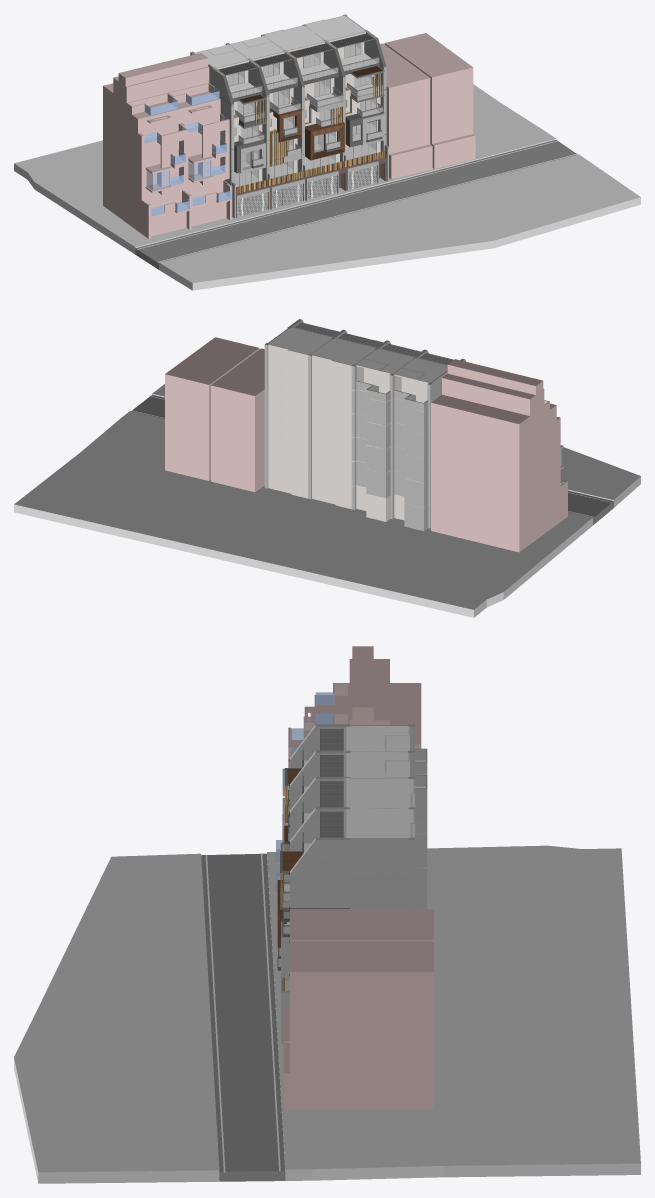
3 renders of one model, top to bottom at view 1: azimuth 30°, elevation 25°; view 2: azimuth 150°, elevation 25°; view 3: azimuth 270°, elevation 25°, orthographic. The views are drawn at different scales.
Parts seen in each view (by area): view 1: Node11761, Node11747, Node11801, Node123, Node1828, Node384, Node111, Node11767, Node285, Node406, Node112, Node2061 (+23 smaller); view 2: Node11801, Node122, Node123, Node296, Node1828, Node11761, Node384, Node1017, Node1030, Node1019, Node1028, Node1052 (+33 smaller); view 3: Node11801, Node11761, Node11747, Node1828, Node379, Node377, Node378, Node374, Node384, Node406, Node1059, Node11773 (+7 smaller).
Boxes of the visible parts, <box> form: Node11761: <box>159,154,640,282</box>; Node11747: <box>136,140,577,263</box>; Node11801: <box>14,84,555,247</box>; Node123: <box>103,73,148,237</box>; Node1828: <box>195,16,364,67</box>; Node384: <box>385,33,472,77</box>; Node111: <box>141,135,182,208</box>; Node11767: <box>223,252,410,286</box>; Node285: <box>183,125,223,198</box>; Node406: <box>380,43,429,87</box>; Node112: <box>161,130,188,194</box>; Node2061: <box>229,53,373,95</box>; Node11801: <box>14,411,592,609</box>; Node122: <box>475,413,519,552</box>; Node123: <box>519,381,567,551</box>; Node296: <box>431,402,474,541</box>; Node1828: <box>269,327,447,382</box>; Node11761: <box>152,384,640,499</box>; Node384: <box>165,337,258,384</box>; Node1017: <box>287,350,307,449</box>; Node1030: <box>331,361,351,460</box>; Node1019: <box>268,344,288,443</box>; Node1028: <box>312,355,331,454</box>; Node1052: <box>404,399,423,482</box>; Node11801: <box>267,845,640,1169</box>; Node11761: <box>14,853,219,1172</box>; Node11747: <box>201,853,284,1171</box>; Node1828: <box>346,726,413,838</box>; Node379: <box>283,1073,433,1109</box>; Node377: <box>290,1039,433,1073</box>; Node378: <box>290,1005,433,1039</box>; Node374: <box>290,972,433,1005</box>; Node384: <box>290,941,433,971</box>; Node406: <box>290,909,433,939</box>; Node1059: <box>350,839,408,909</box>; Node11773: <box>38,1170,219,1183</box>.
Bounding box in the file's own units: 2776 × 915 × 2252.
22 materials, 5 textured.
